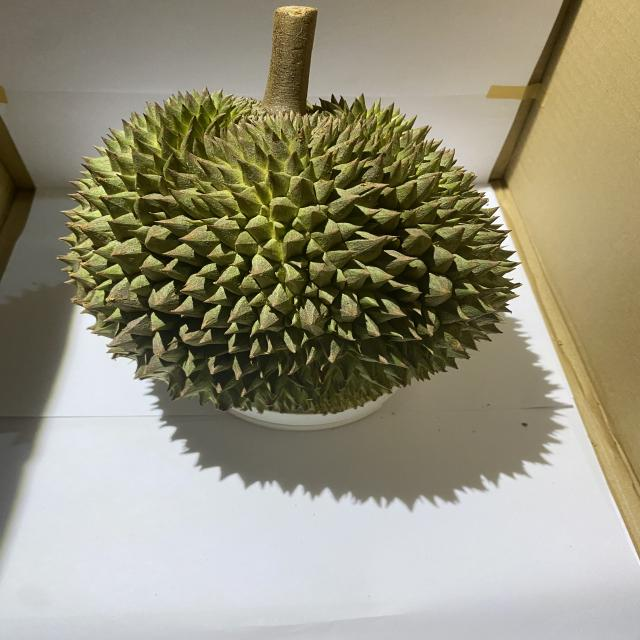immature: (60, 88, 524, 415)
